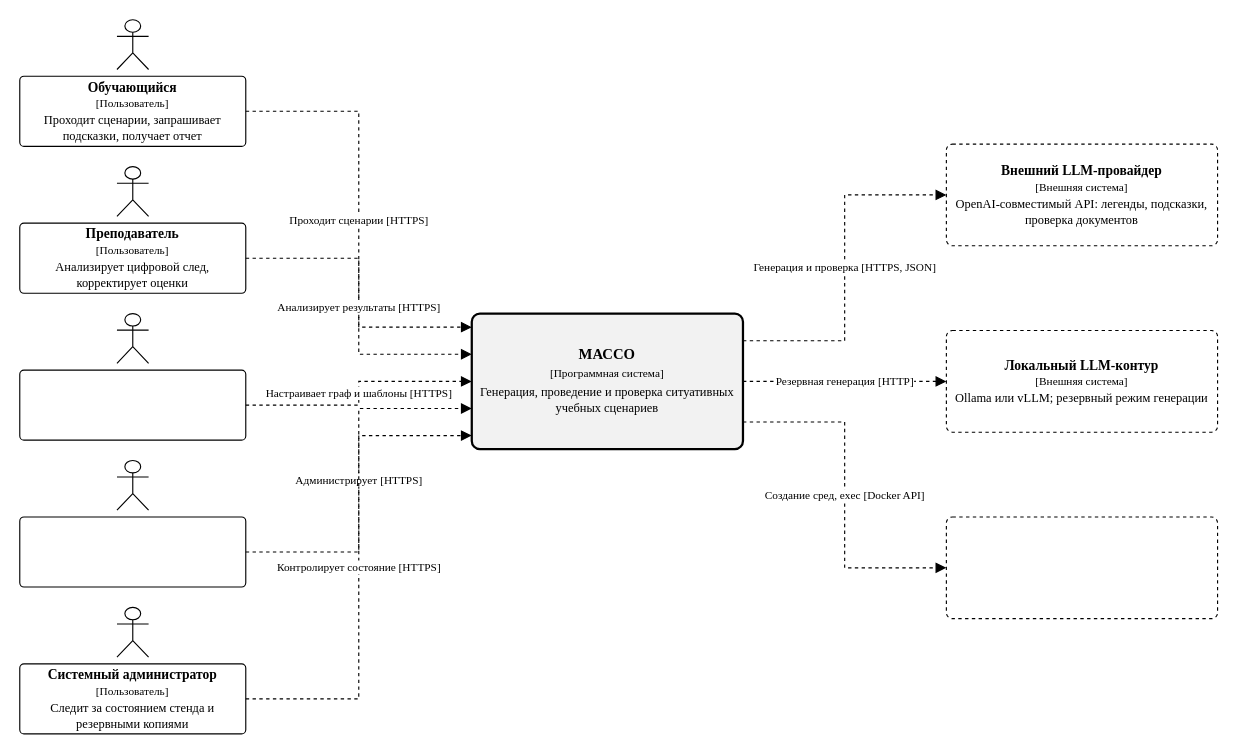
The diagram is 1237 pixels wide and 754 high, and some of its shapes have lost their labels. Each missing label, with the centre of its shape:
Docker Engine стенда [Внешняя система] Запуск изолированных учебных сред: (x=1081, y=567)
Администратор [Пользователь] Управляет пользователями, ролями, LLM и sandbox: (x=132, y=551)
Методист [Пользователь] Ведет граф компетенций и шаблоны сценариев: (x=132, y=404)
